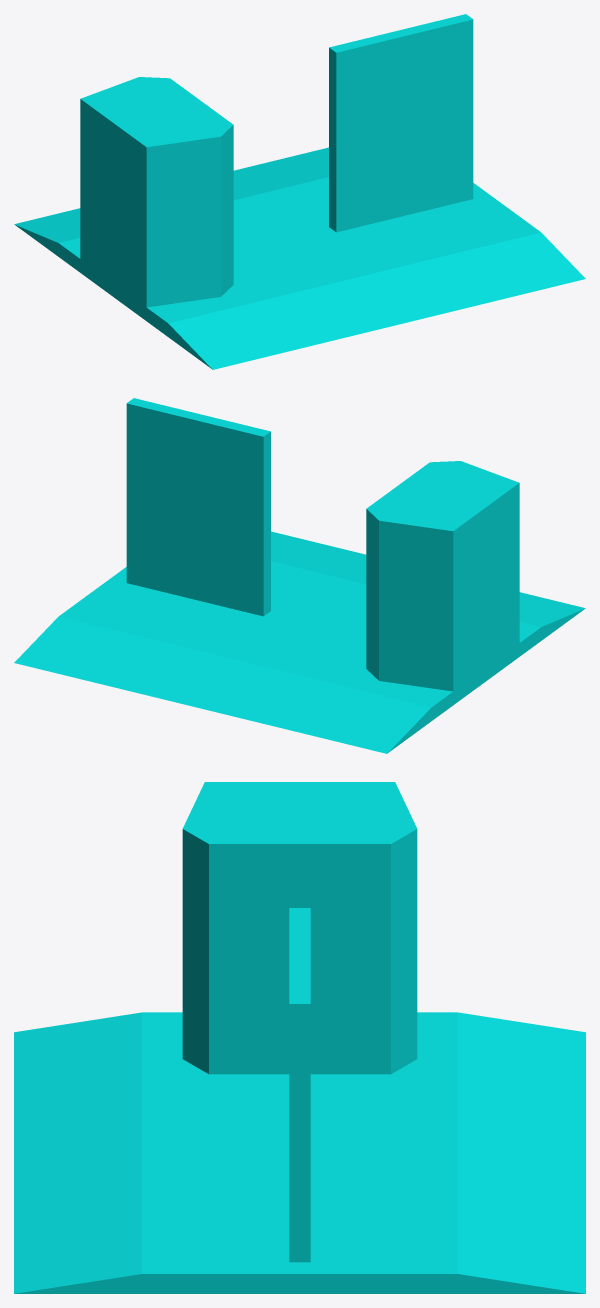
File: SM_Prop_Turnstile_02_Collision.fbx
The picture shows the model from 3 angles, top to bottom: view 1: azimuth 30°, elevation 25°; view 2: azimuth 150°, elevation 25°; view 3: azimuth 270°, elevation 25°; orthographic projection. The views are drawn at different scales.
Parts seen in each view (by area): view 1: SM_Prop_Turnstile_02_Collision; view 2: SM_Prop_Turnstile_02_Collision; view 3: SM_Prop_Turnstile_02_Collision.
Boxes of the visible parts, <box> form: SM_Prop_Turnstile_02_Collision: <box>14,14,585,369</box>; SM_Prop_Turnstile_02_Collision: <box>14,398,585,753</box>; SM_Prop_Turnstile_02_Collision: <box>14,782,585,1293</box>.
Bounding box in the file's own units: 250 × 124 × 231.
